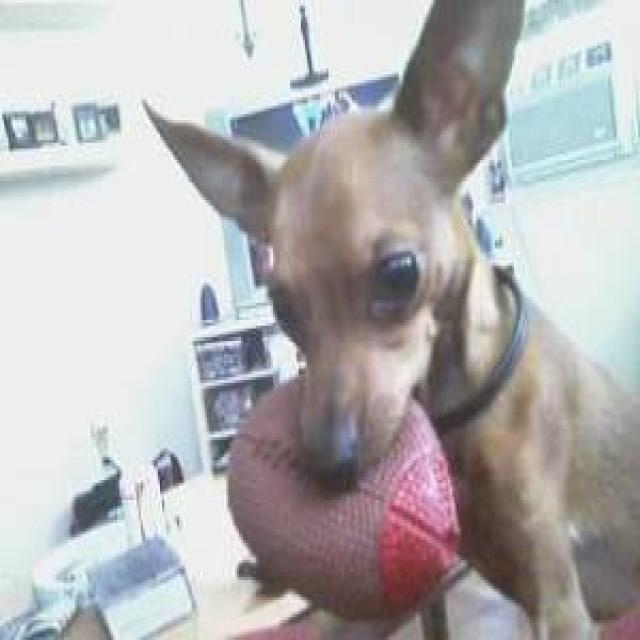dog-miniature_pinscher: (134, 3, 636, 634)
